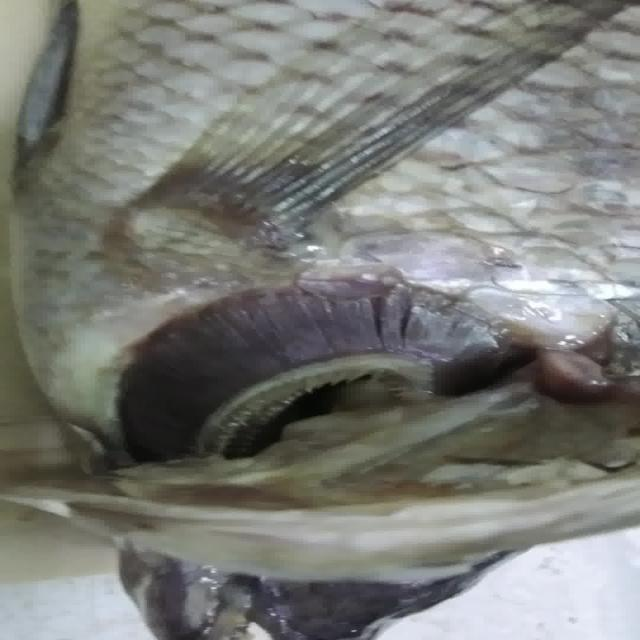Non-Fresh: (105, 272, 537, 488)
